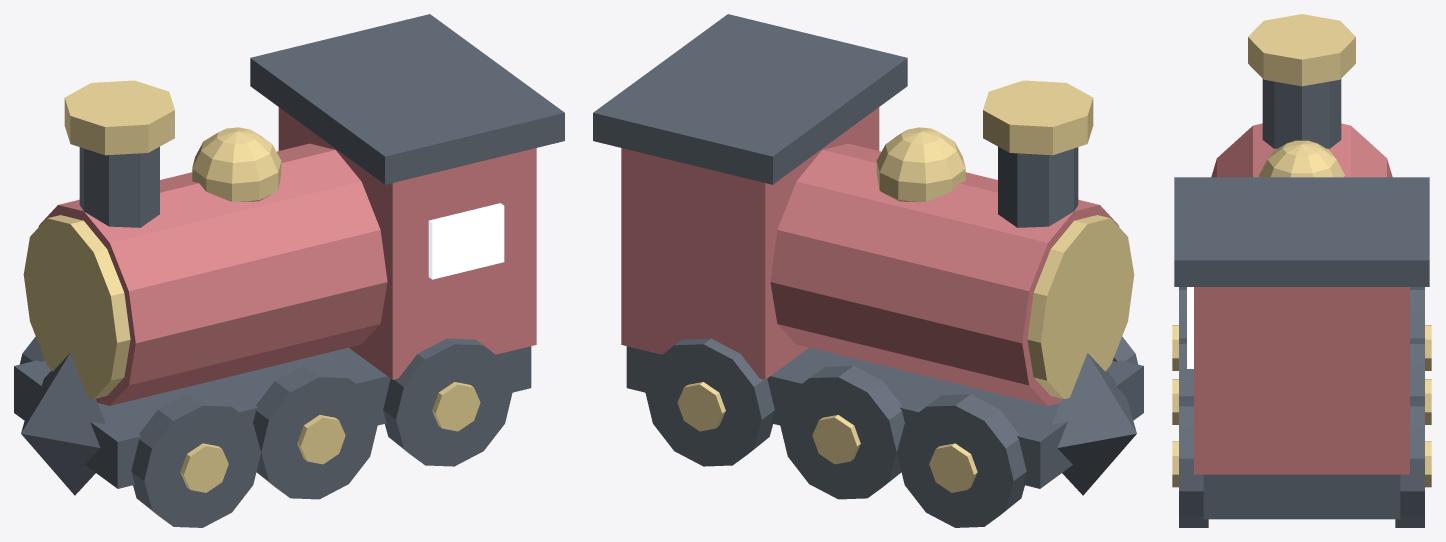
File: toy_train.glb
The picture shows the model from 3 angles, left to right: view 1: azimuth 30°, elevation 25°; view 2: azimuth 150°, elevation 25°; view 3: azimuth 270°, elevation 25°; orthographic projection. The views are drawn at different scales.
Parts seen in each view (by area): view 1: Chassis, Boiler, Hub.-0.15.-1, Cab window; view 2: Chassis, Boiler, Hub.-0.15.-1; view 3: Chassis, Boiler, Hub.-0.15.-1, Cab window.
Boxes of the visible parts, bbox=[...] form: Chassis: bbox=[14, 14, 564, 527]; Boiler: bbox=[38, 107, 536, 405]; Hub.-0.15.-1: bbox=[23, 80, 480, 492]; Cab window: bbox=[428, 203, 504, 279]; Chassis: bbox=[593, 14, 1143, 527]; Boiler: bbox=[621, 107, 1119, 405]; Hub.-0.15.-1: bbox=[677, 80, 1134, 492]; Chassis: bbox=[1174, 79, 1429, 527]; Boiler: bbox=[1194, 123, 1409, 474]; Hub.-0.15.-1: bbox=[1172, 14, 1431, 487]; Cab window: bbox=[1187, 287, 1193, 368].
Size of the model in its own units: 0.53 by 0.405 by 0.264.
